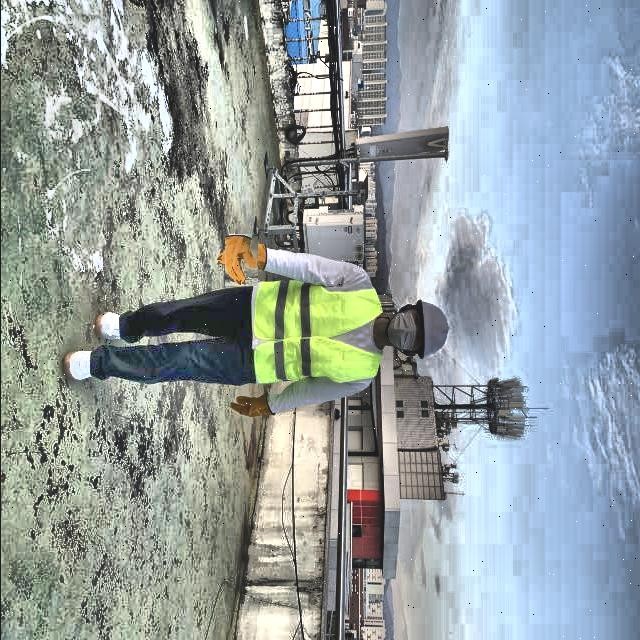gloved: (220, 238, 262, 282), (228, 393, 274, 418)
